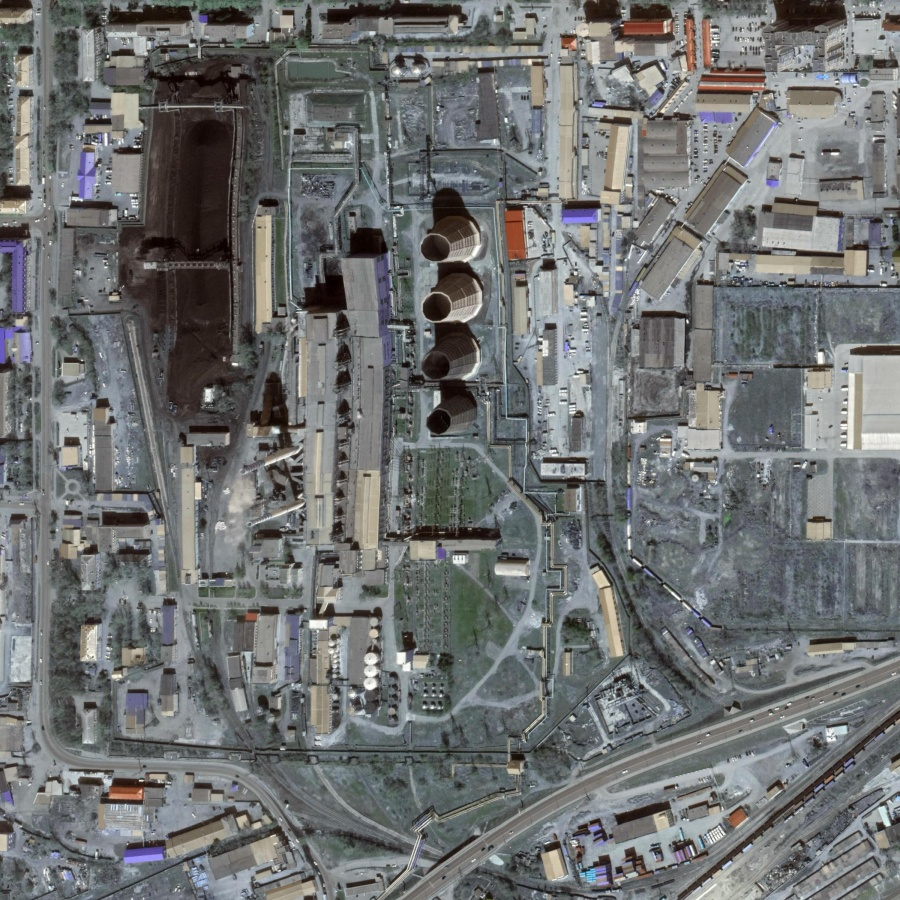PowerPlant: (105, 43, 515, 552)
